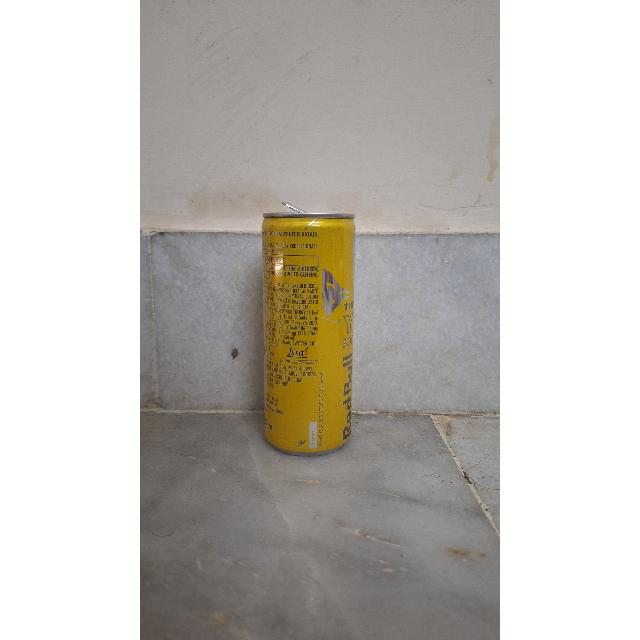Redbull Yellow Edition: (242, 205, 366, 458)
